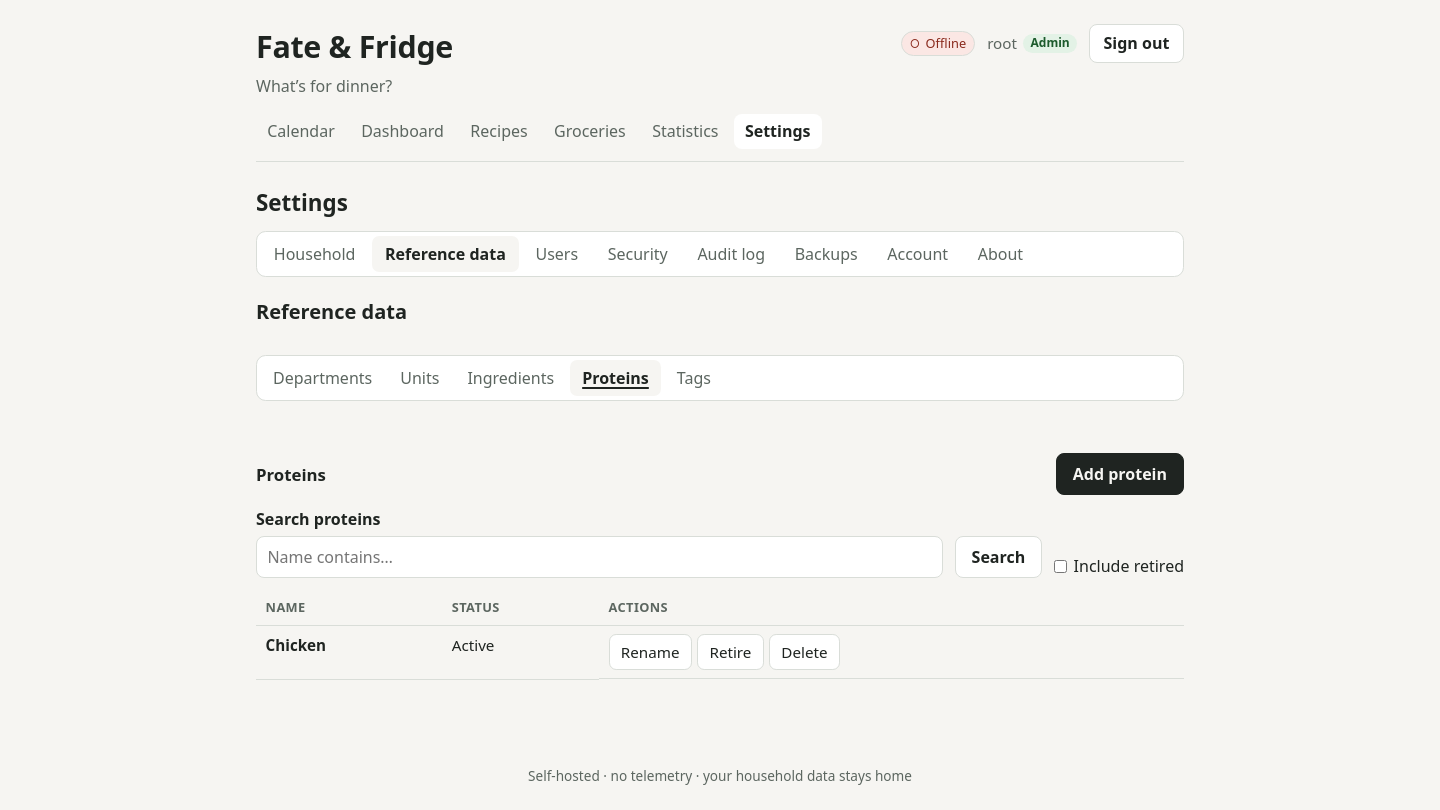
Test case: proteins tab › renames a protein through PATCH with the new name
Click the button with aria-label "Rename Chicken" at {"x": 650, "y": 652}, box [609,634,692,670]
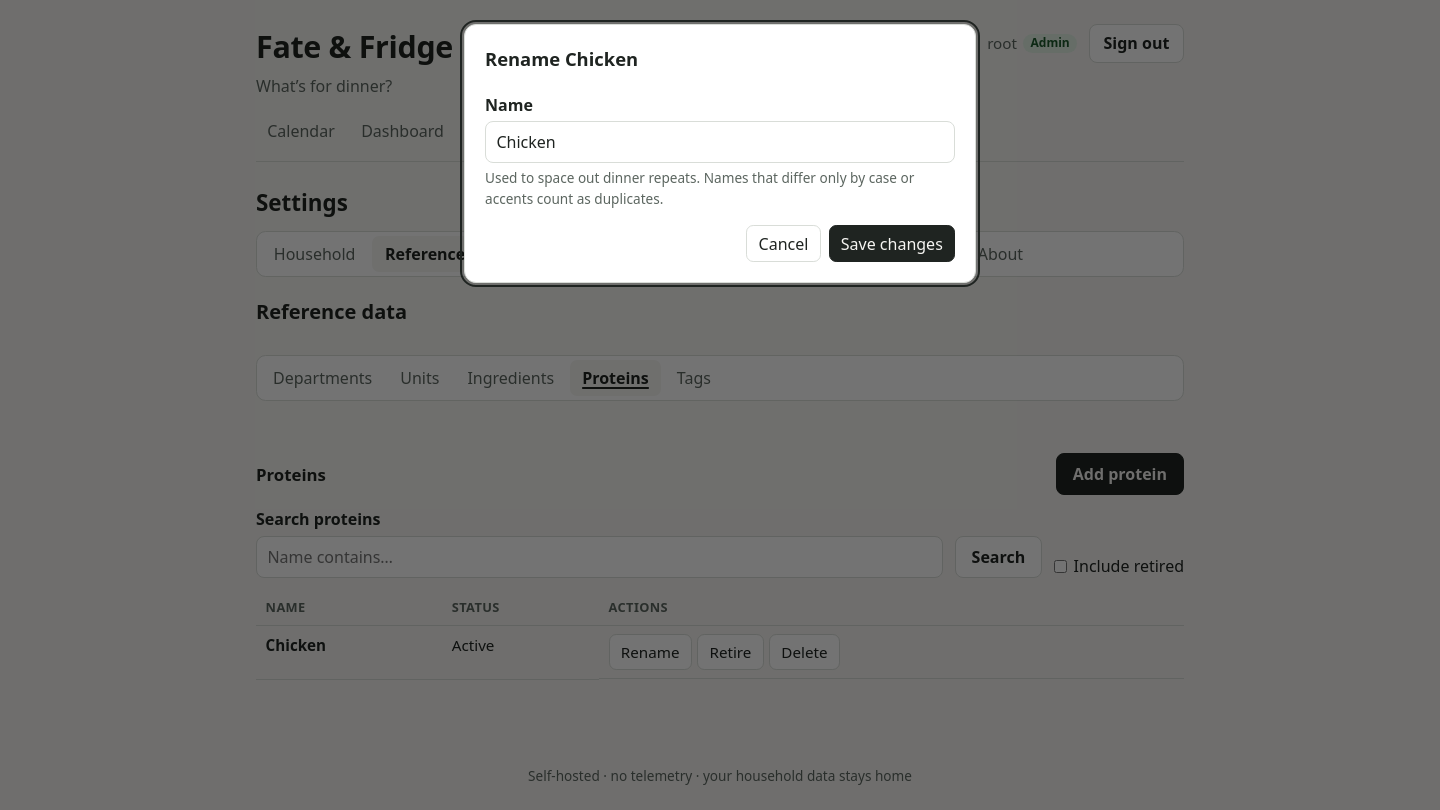
Check: the field labelled "Name" holds "Chicken"
Replace the text in the field labelled "Name" with "Chicken breast" at {"x": 720, "y": 142}, box [485,121,955,163]
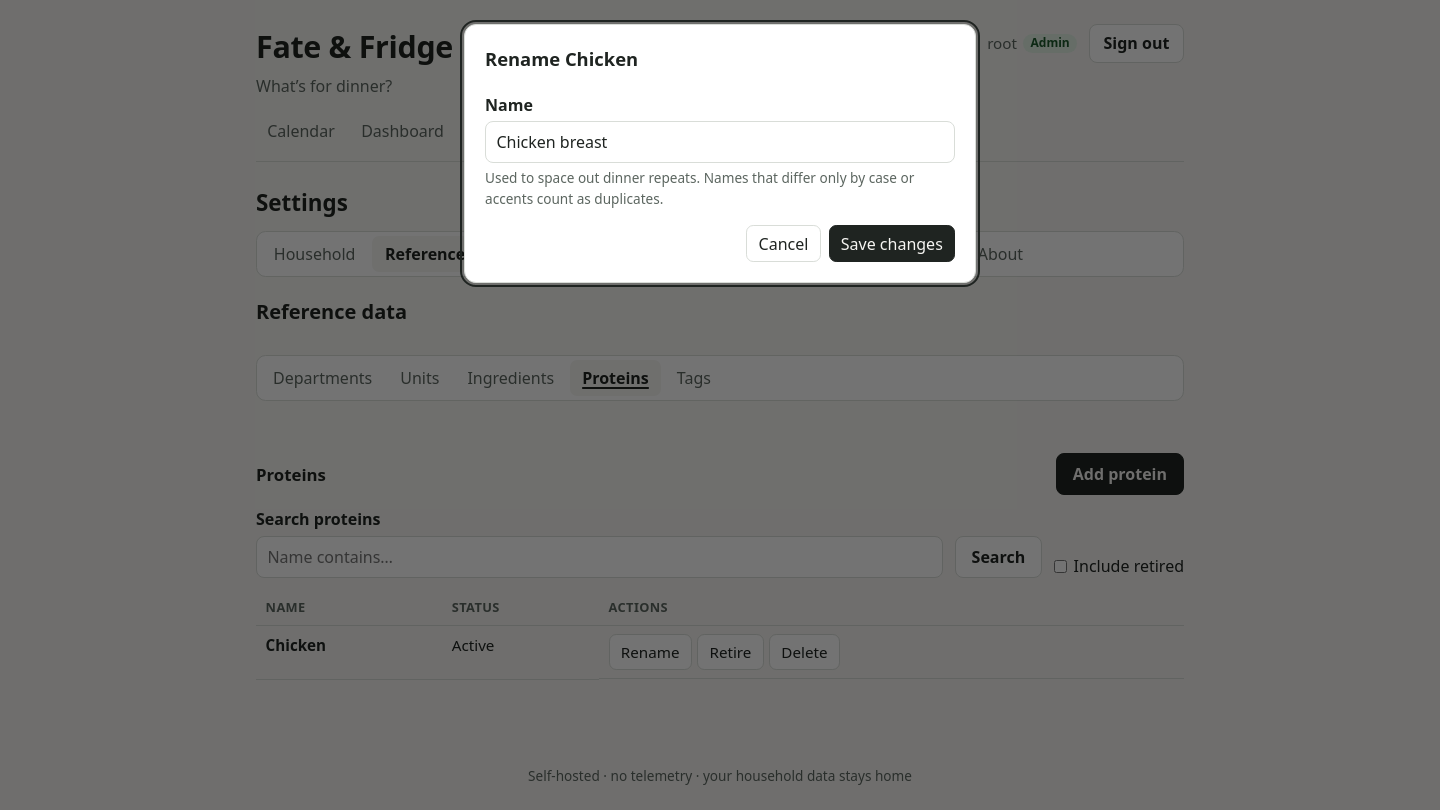
Click the button "Save changes" at {"x": 892, "y": 244}, box [829,225,955,262]
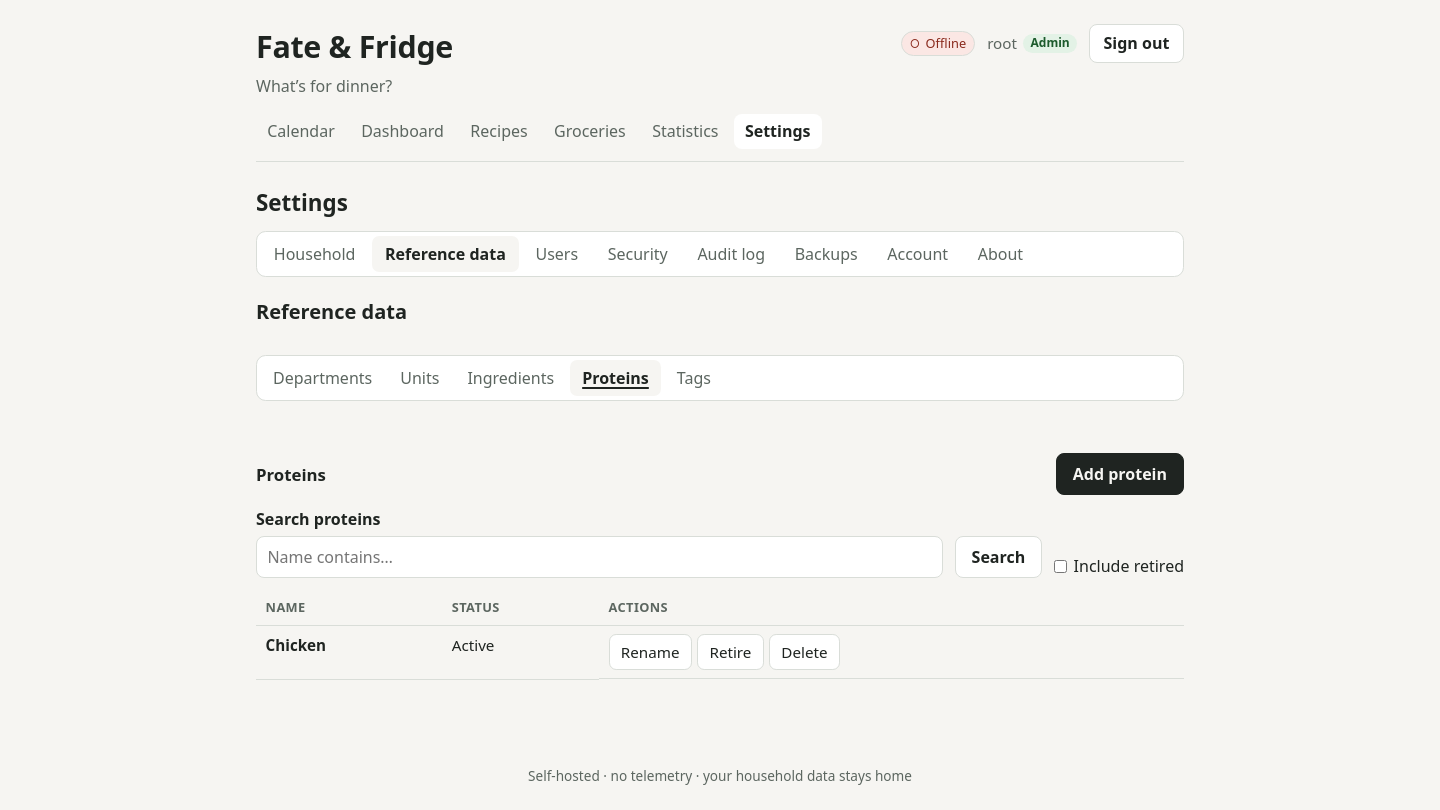
Check: the dialog is gone
